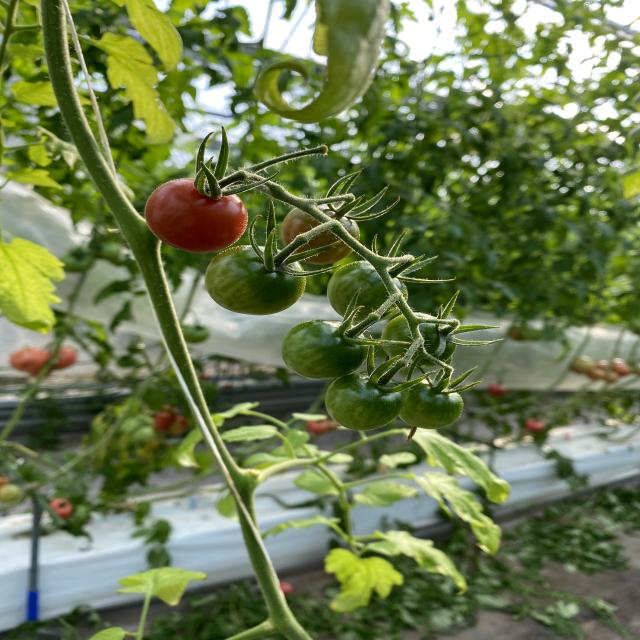ripe0: (206, 243, 306, 315), (282, 320, 370, 379), (324, 372, 405, 431), (400, 384, 464, 429)
ripe2: (146, 177, 247, 254)
